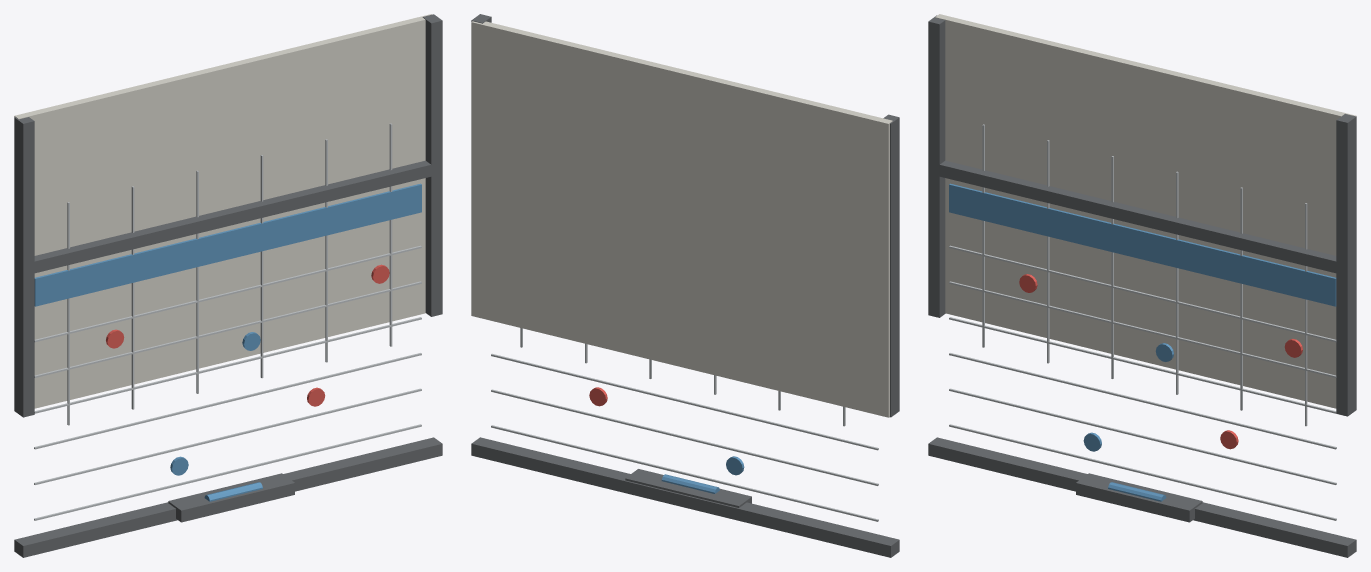
File: car-repair-garage-and-mot-workshop-car-repair-garage-a-d965801c__34043.glb
3 renders of one model, left to right at view 1: azimuth 30°, elevation 25°; view 2: azimuth 150°, elevation 25°; view 3: azimuth 330°, elevation 25°, orthographic.
Parts seen in each view (by area): view 1: car-repair-garage-and-mot-workshop-calendar-board; view 2: car-repair-garage-and-mot-workshop-calendar-board; view 3: car-repair-garage-and-mot-workshop-calendar-board.
Part boxes in pixels (x1,y1,x2,y2): car-repair-garage-and-mot-workshop-calendar-board: [14, 14, 442, 557]; car-repair-garage-and-mot-workshop-calendar-board: [471, 14, 899, 557]; car-repair-garage-and-mot-workshop-calendar-board: [928, 14, 1356, 557].
Size of the model in its own units: 1.11 by 1.1 by 0.07.
